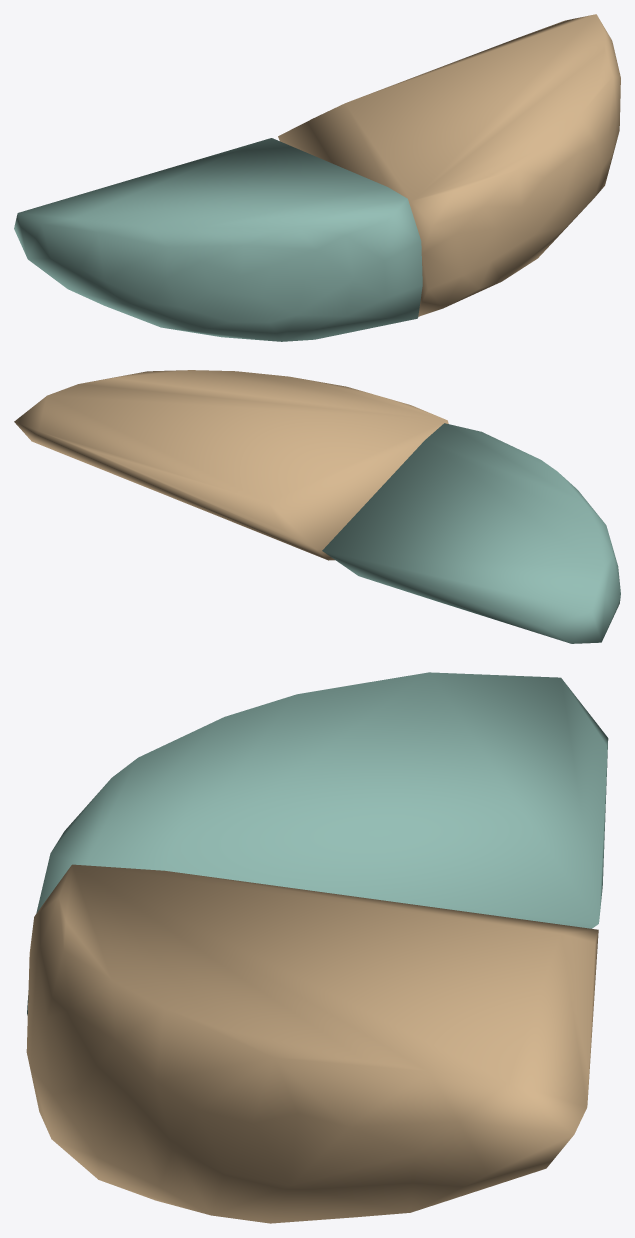
3 renders of one model, top to bottom at view 1: azimuth 30°, elevation 25°; view 2: azimuth 150°, elevation 25°; view 3: azimuth 270°, elevation 25°, orthographic. The views are drawn at different scales.
Bounding box in the file's own units: 1.84 × 0.4589 × 0.8056.
